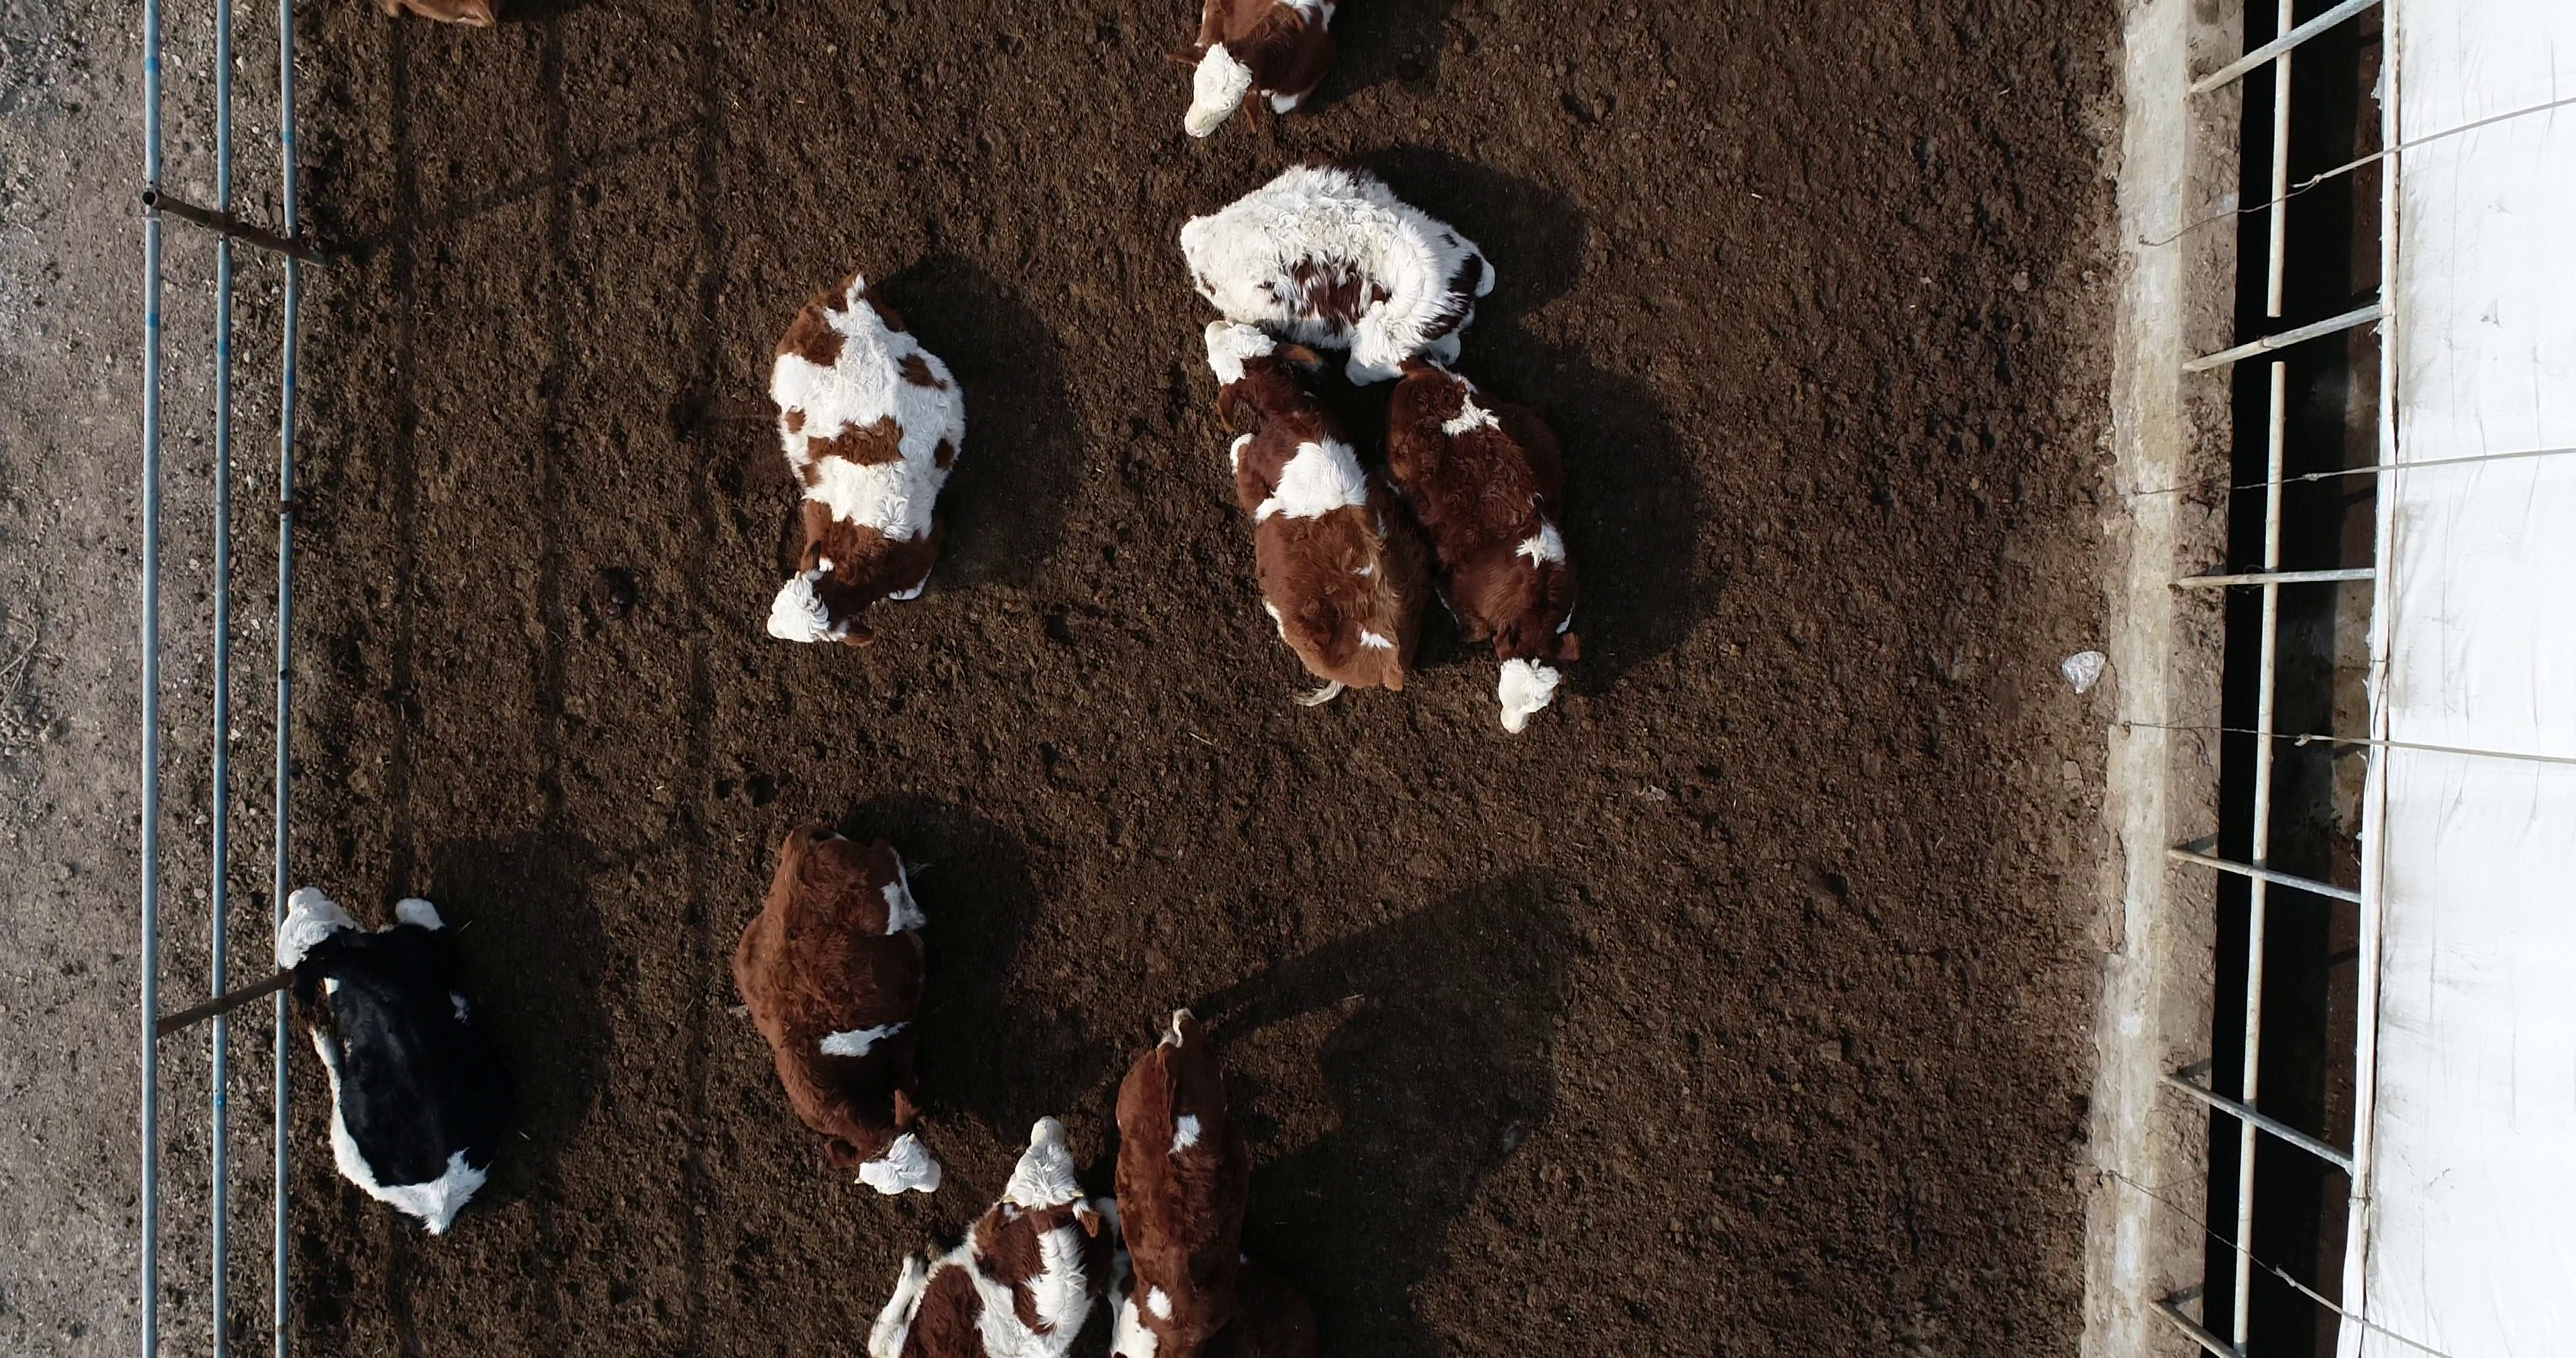cattle: (1198, 314, 1436, 711), (724, 813, 957, 1200), (750, 259, 978, 651), (266, 883, 508, 1244), (1378, 353, 1595, 745), (1176, 160, 1506, 388)
